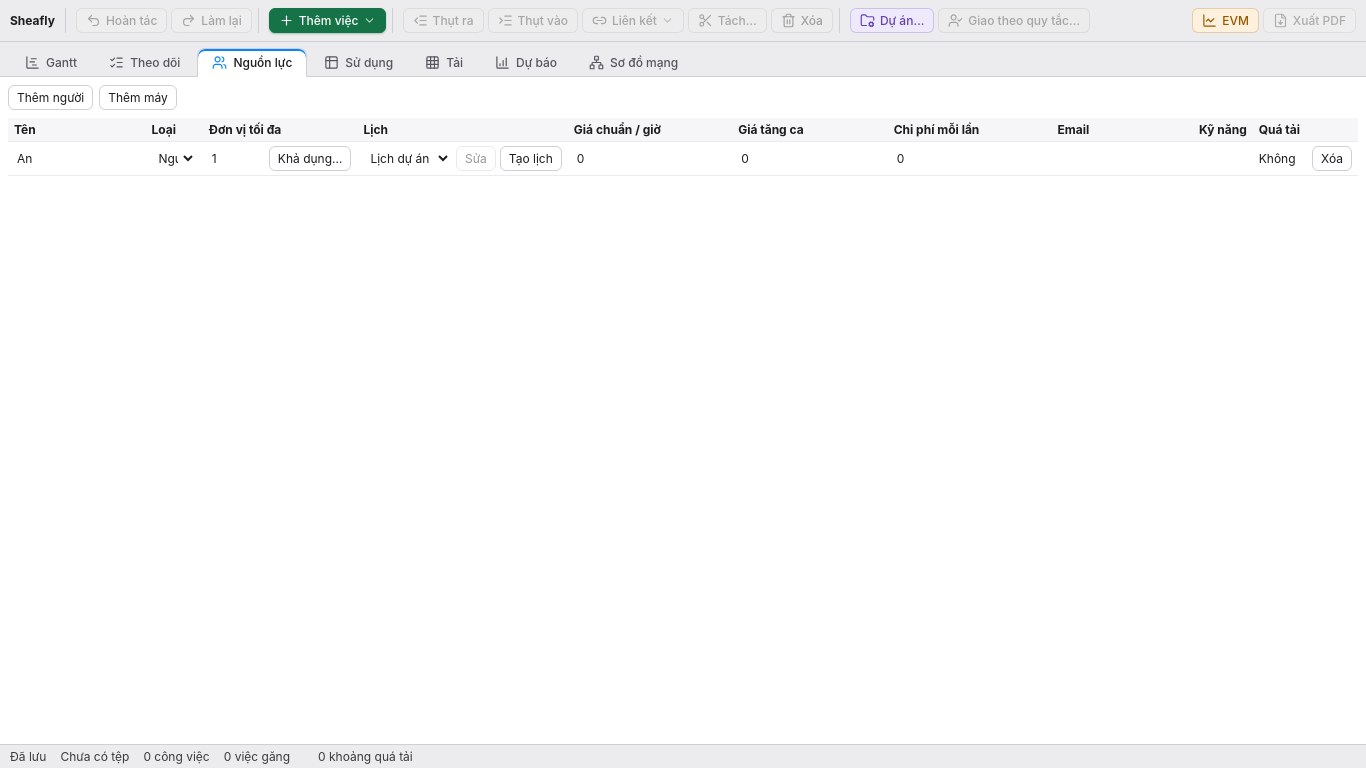
Test: Root › edits a resource's availability as one transaction
Expected: the button "Hoàn tác" is shown, [76,8,167,33]
Step 1. Click the button with aria-label "Khả dụng của An" → (310, 158), box [269,146,351,171]
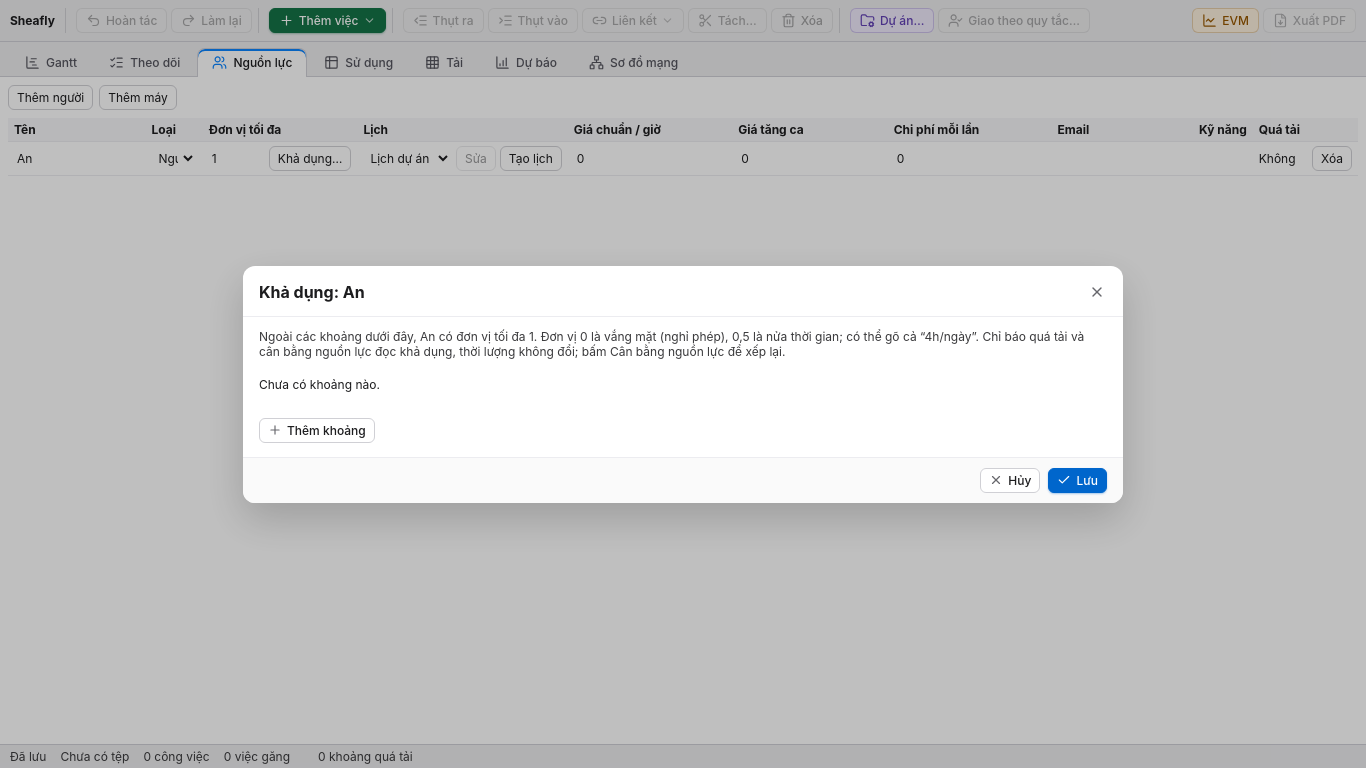
Expected: the dialog "Khả dụng: An" is shown, [243,266,1123,502]
Step 2. Click the button "Thêm khoảng" → (317, 430), box [259,418,375,442]
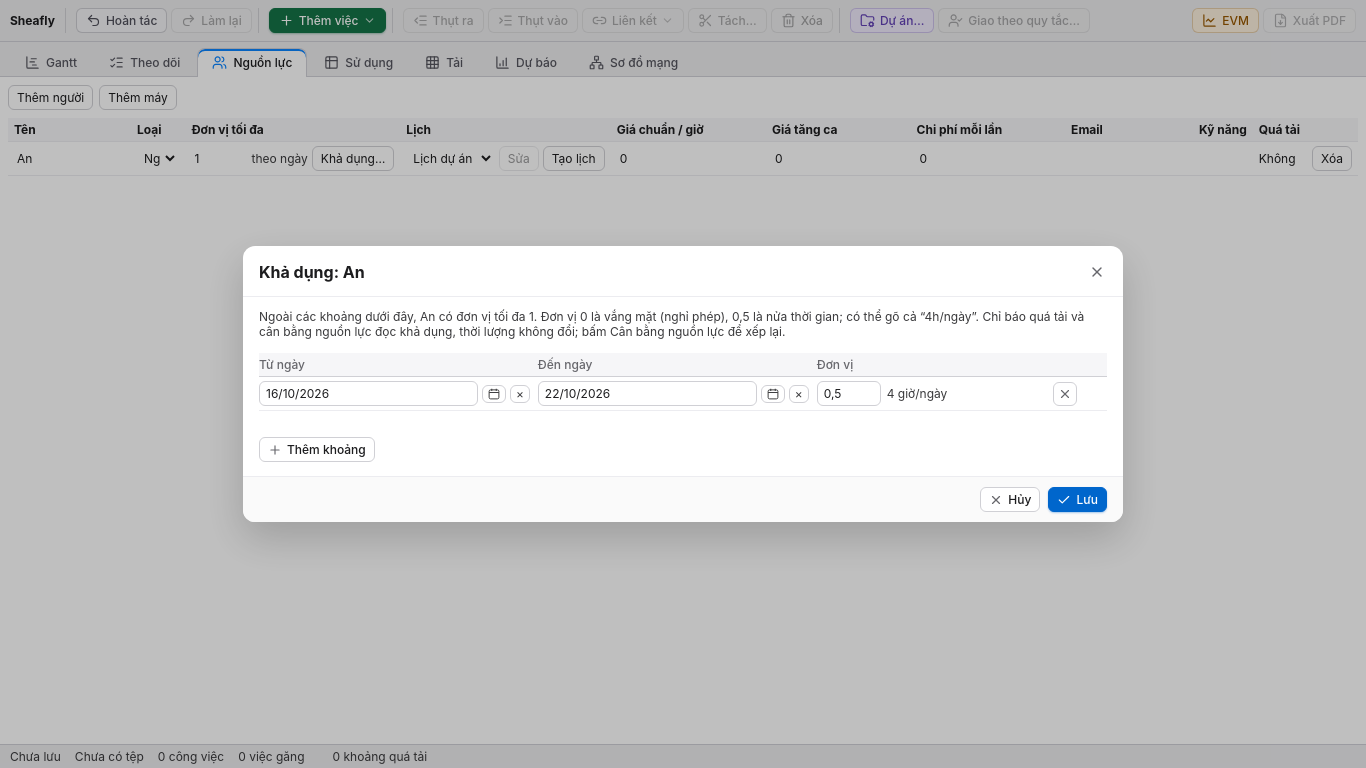
Expected: the field named "Đơn vị, khoảng 1" holds "0,5", [817,381,881,406]
Step 3. Click the button "Lưu" → (1078, 500), box [1048,487,1107,512]
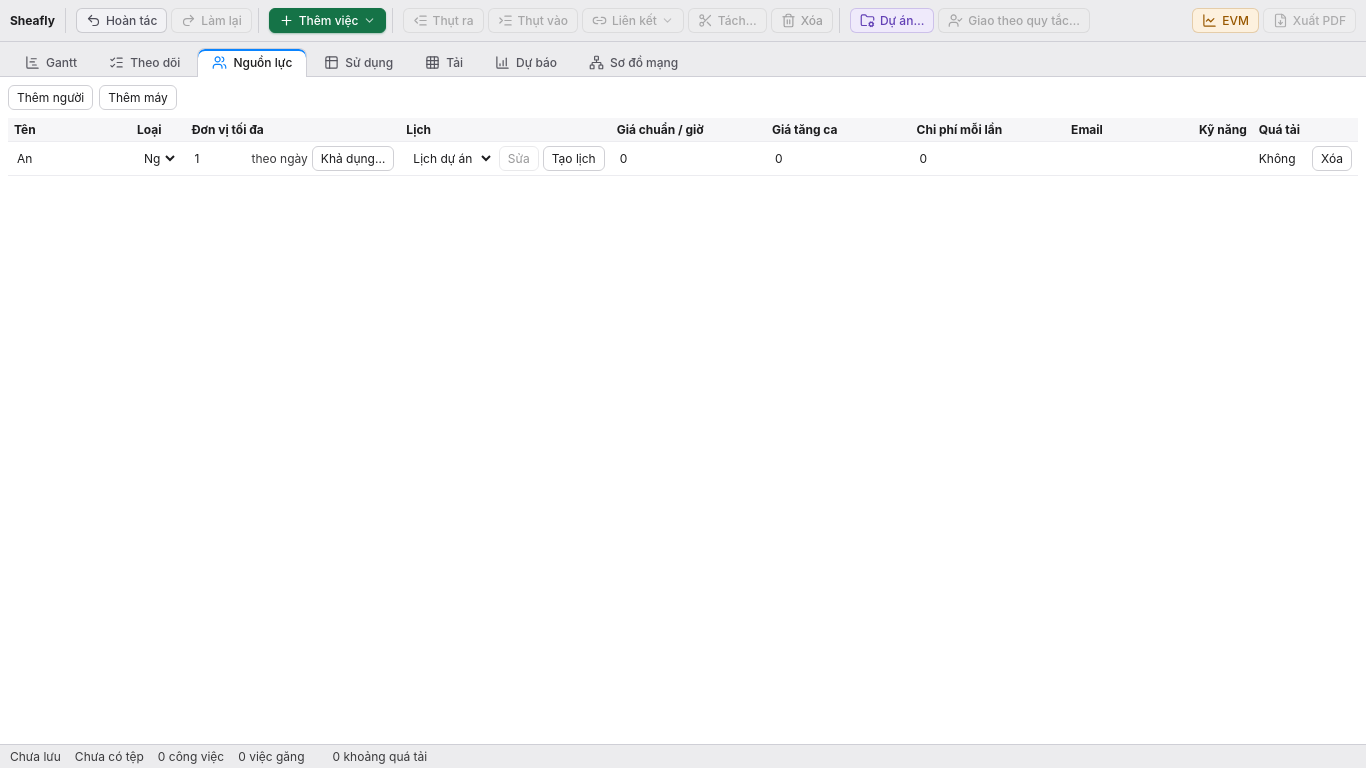
Expected: the text "theo ngày" is shown, [252,151,308,166]
Expected: the heading "Khả dụng: An" is gone
